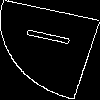I: (25, 25, 83, 51)
